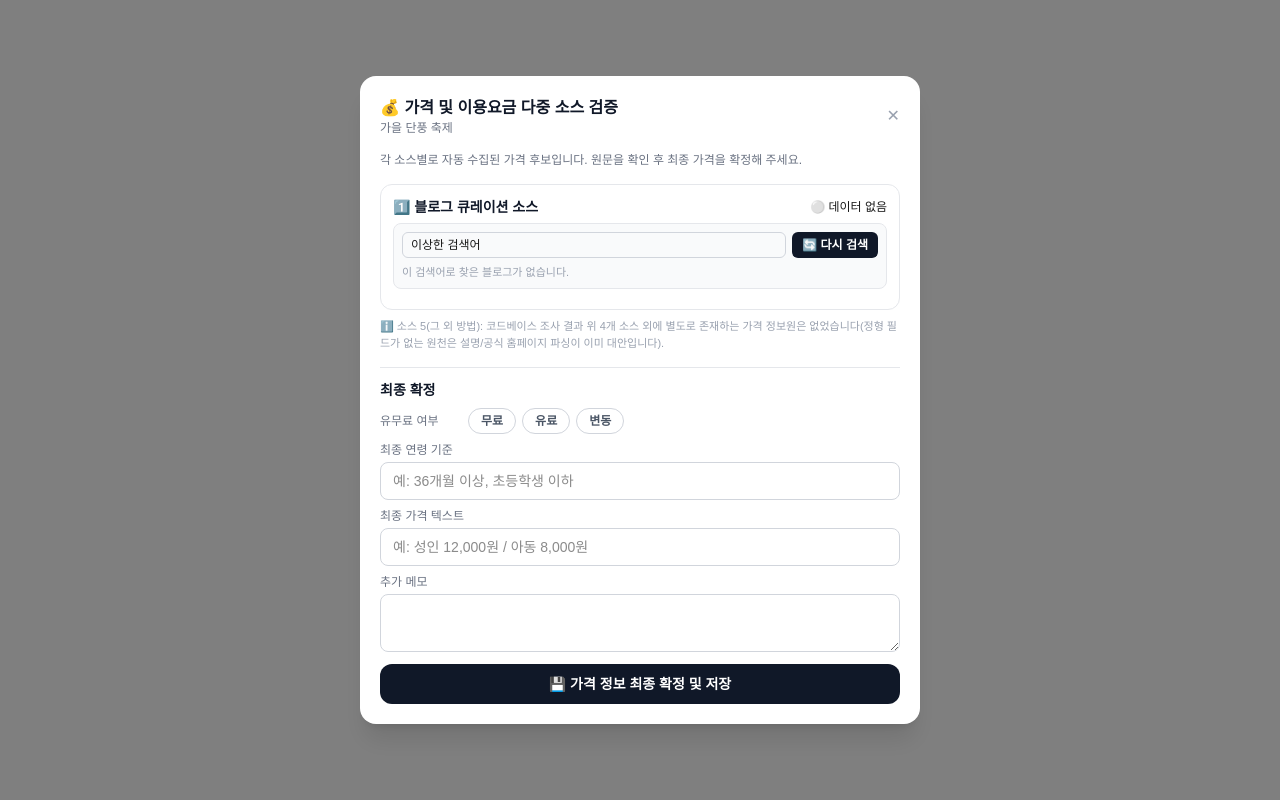
검색어를 수정하고 "다시 검색"을 누르면 그 검색어로 다시 요청해 결과를 갱신한다
Replace the text in the field showing "이상한 검색어" with "올바른 검색어" at (594, 245), box [402,232,786,258]
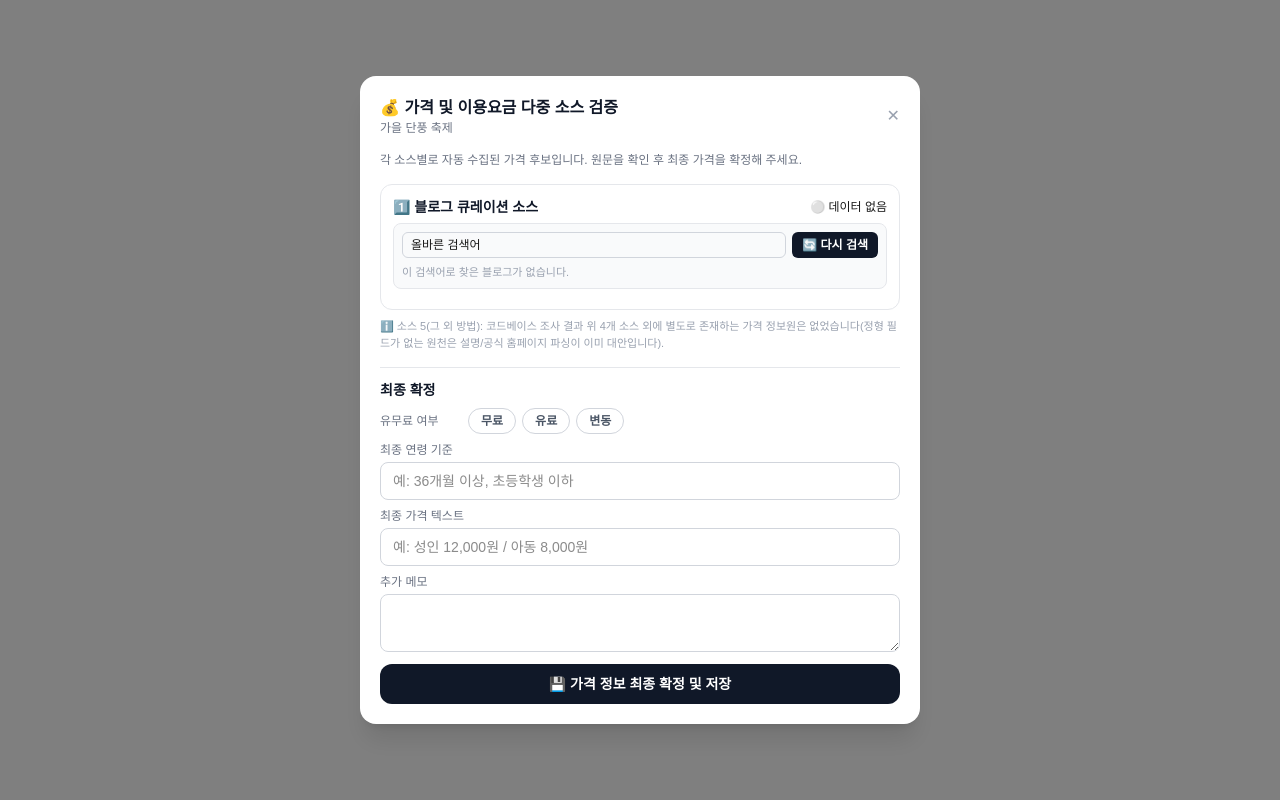
Click the button "🔄 다시 검색" at (835, 245), box [792,232,878,258]
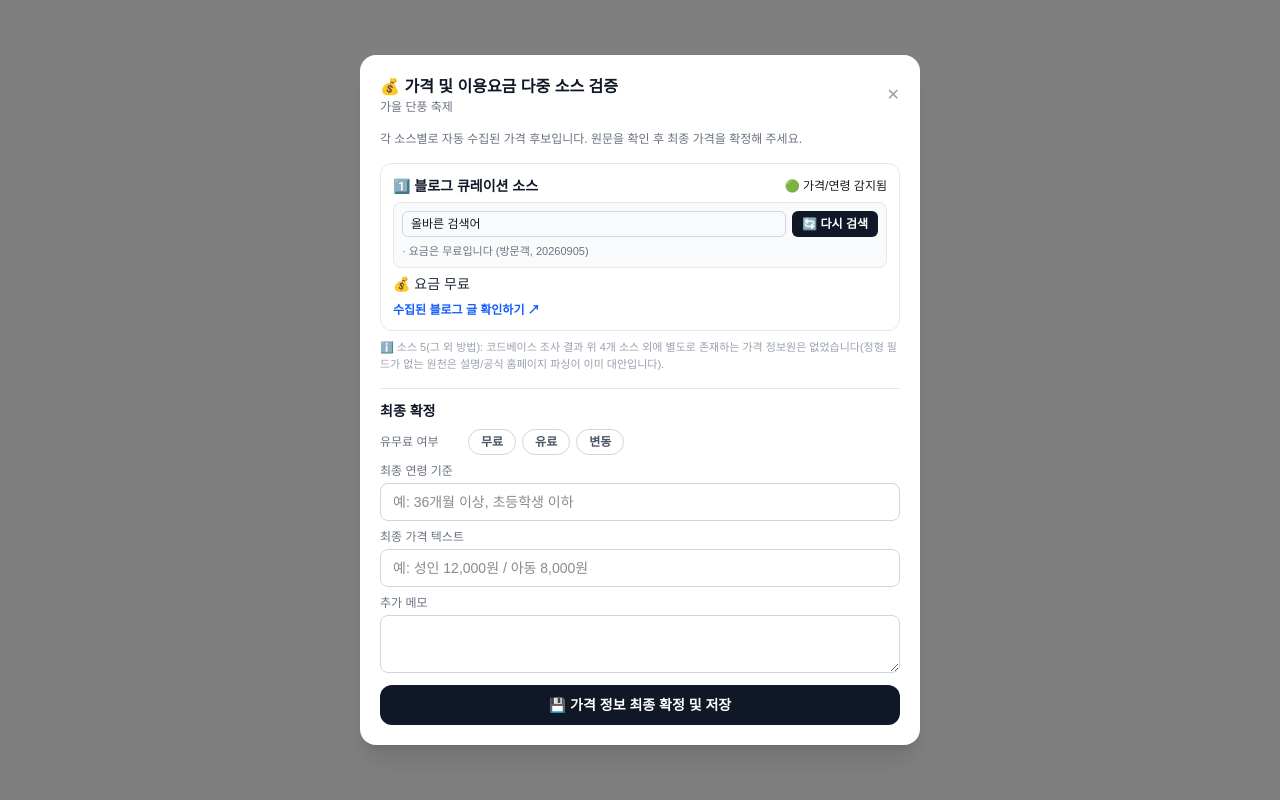
Check: the list item "· 요금은 무료입니다 (방문객, 20260905)" is shown, box [402,245,589,257]
Check: the text "요금 무료" is shown, box [414,276,470,292]
